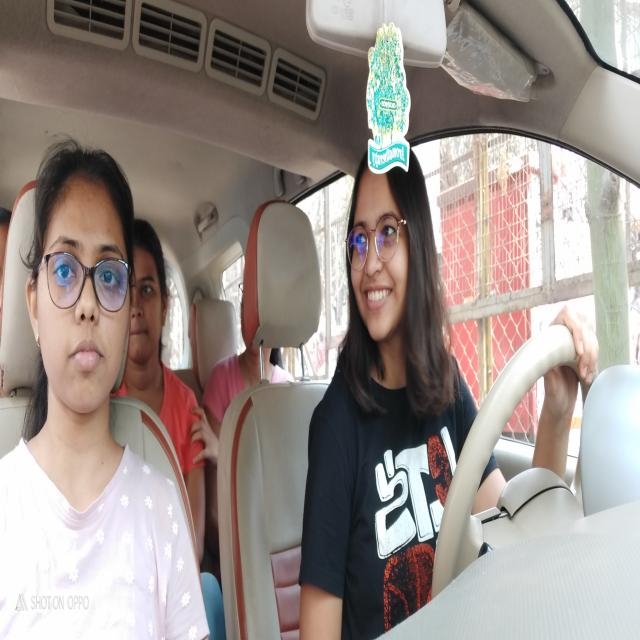LeftRight: (346, 155, 422, 343)
person: (29, 140, 131, 427), (131, 216, 169, 369)
talking: (360, 284, 394, 311)
